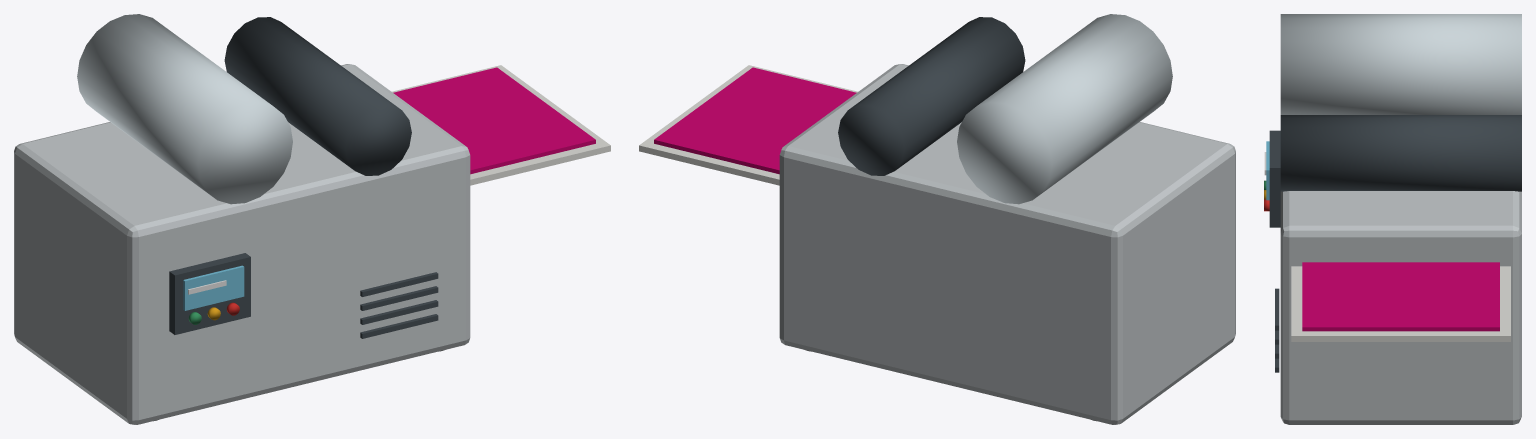
File: m_laminator.glb
3 renders of one model, left to right at view 1: azimuth 30°, elevation 25°; view 2: azimuth 150°, elevation 25°; view 3: azimuth 270°, elevation 25°, orthographic.
Visible parts, largest first — view 1: m_laminator; view 2: m_laminator; view 3: m_laminator.
Part boxes in pixels (x1,y1,x2,y2): m_laminator: [14, 14, 610, 424]; m_laminator: [639, 14, 1235, 424]; m_laminator: [1264, 14, 1521, 424].
Size of the model in its own units: 0.51 by 0.3 by 0.235.
